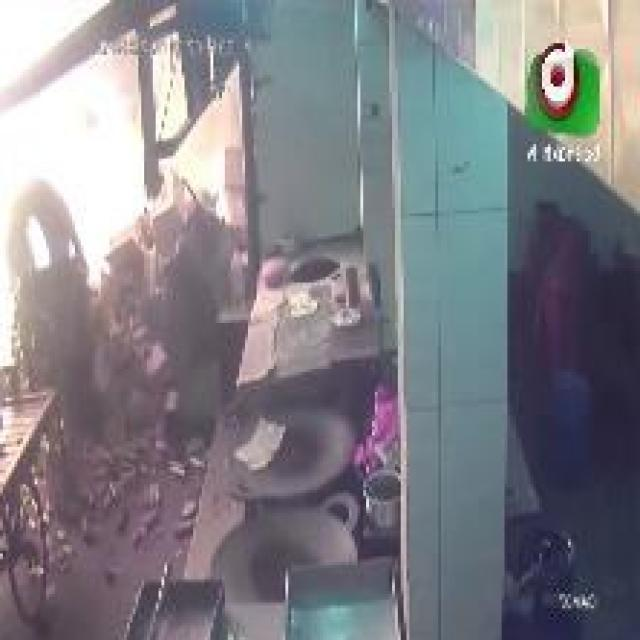smoke: (0, 2, 162, 363)
